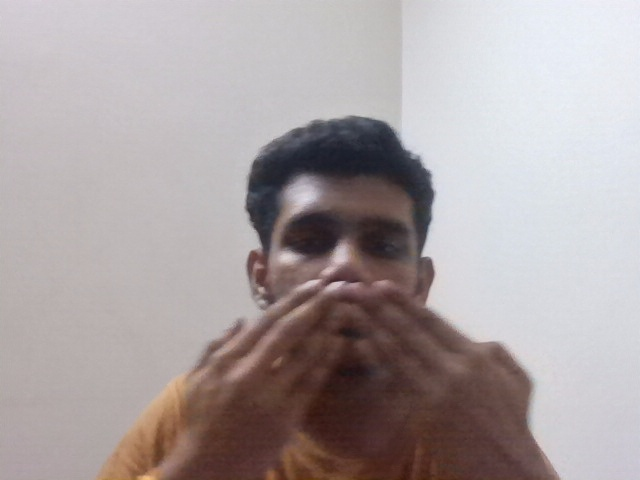thanks: (136, 273, 562, 465)
